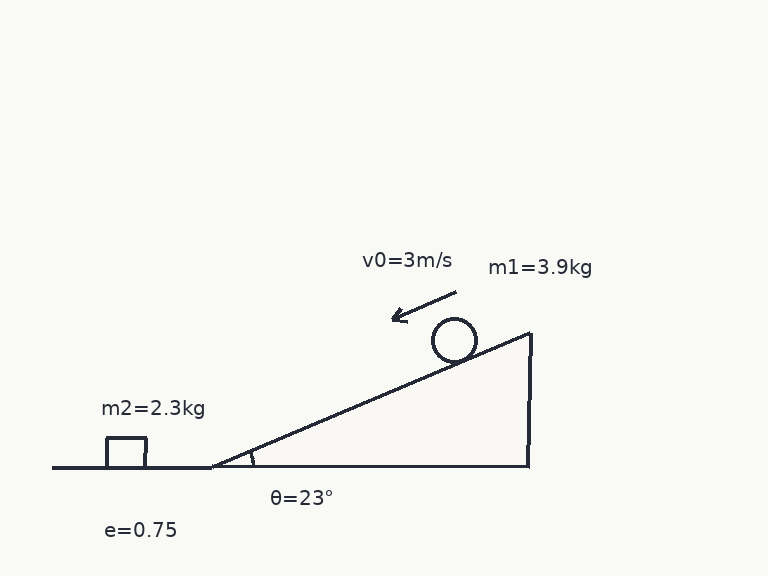ball: (429, 315, 479, 365)
block: (104, 436, 148, 469)
ramp: (211, 331, 531, 469)
